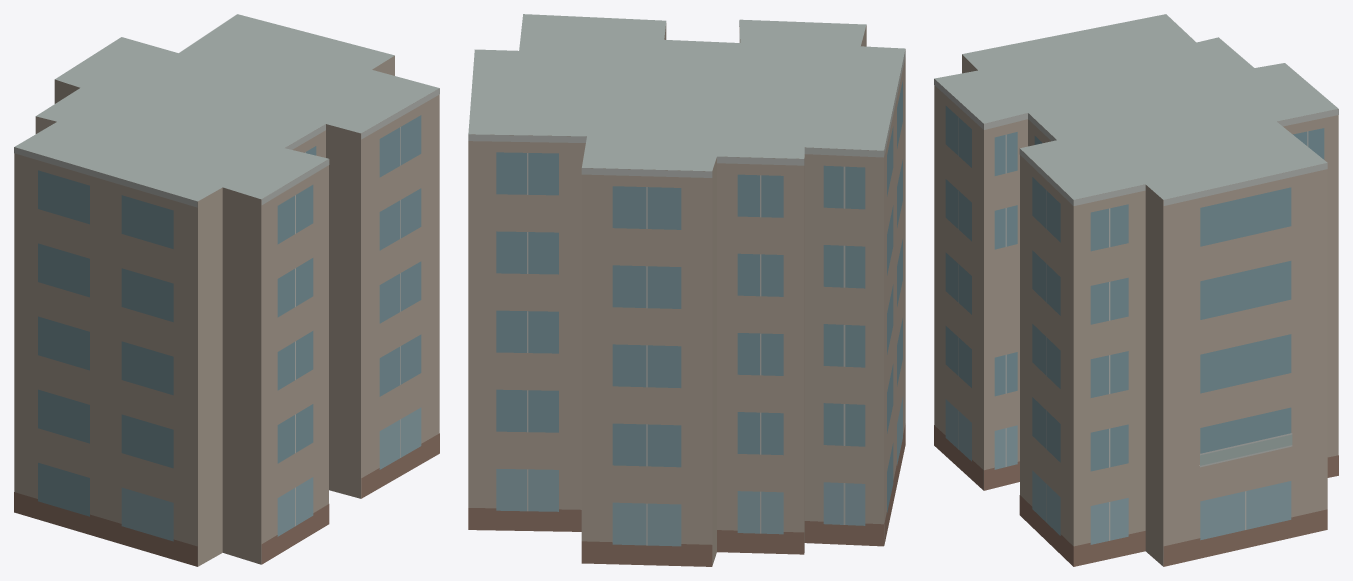
Rendered from survey-upis-33002234.glb.
3 renders of one model, left to right at view 1: azimuth 30°, elevation 25°; view 2: azimuth 150°, elevation 25°; view 3: azimuth 270°, elevation 25°, orthographic. The views are drawn at different scales.
Parts seen in each view (by area): view 1: survey-upis-33002234.tmp; view 2: survey-upis-33002234.tmp; view 3: survey-upis-33002234.tmp.
Part boxes in pixels (x1,y1,x2,y2): survey-upis-33002234.tmp: [14, 14, 439, 566]; survey-upis-33002234.tmp: [468, 14, 905, 566]; survey-upis-33002234.tmp: [934, 14, 1338, 566].
Bounding box in the file's own units: 15.55 × 14.3 × 14.3.
